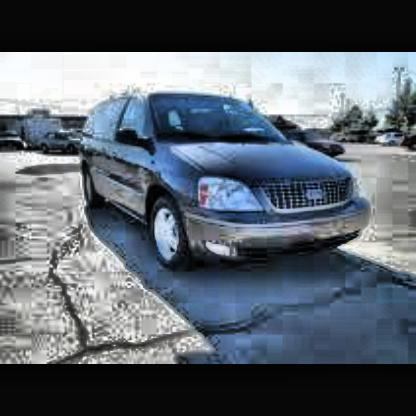Ford Freestar Minivan 2007: (75, 88, 377, 268)
